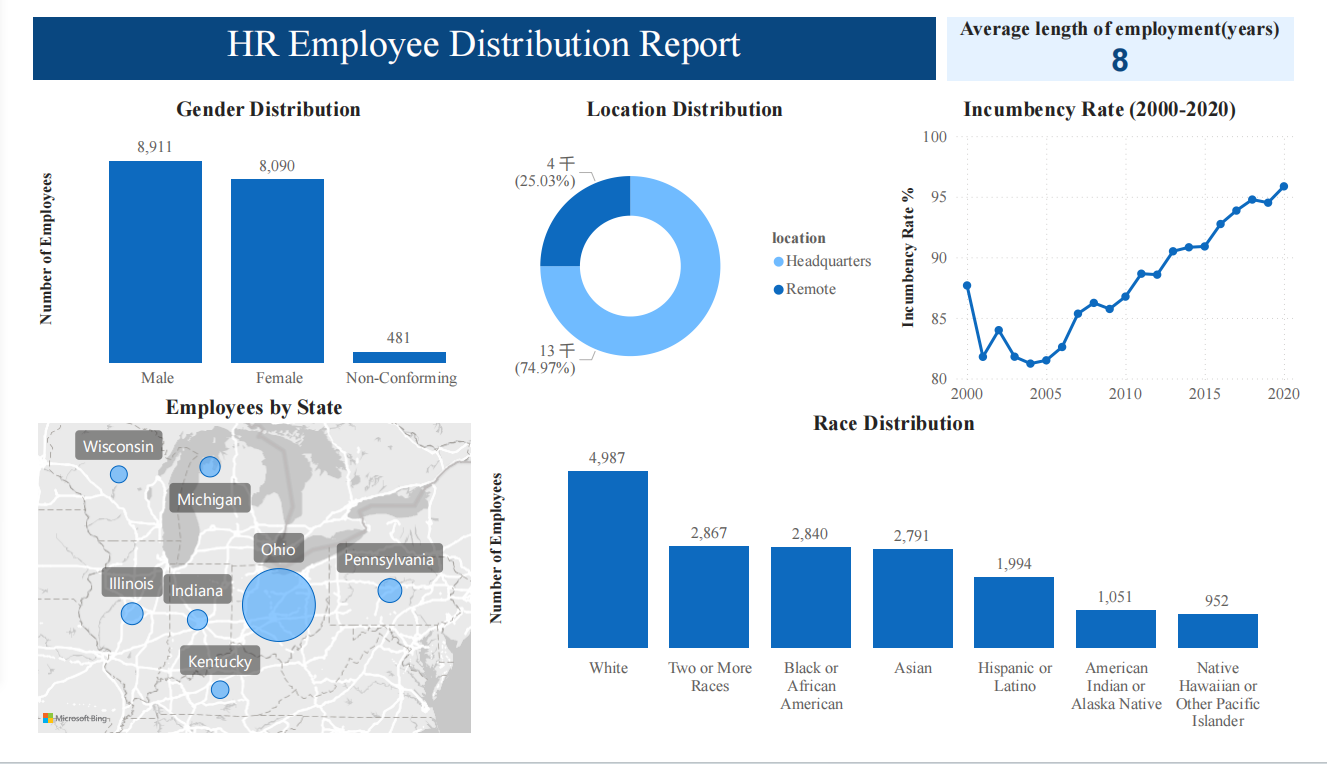

The page's visual inventory and layout, read from the dashboard file:
{"tool":"powerbi","page":{"name":"第 1 页","canvas":[1280,720],"ordinal":0},"visuals":[{"type":"textbox","box":[10,0,900.6,62.2],"z":0},{"type":"card","title":"Average length of employment(years)","fields":{"Values":["Sum(avg_year.avg_year)"]},"box":[923,0,345.8,63.4],"z":1000},{"type":"columnChart","title":"Gender Distribution","fields":{"Category":["gender.gender"],"Y":["Sum(gender.count)"]},"box":[10,79.6,471.5,297.3],"z":2000},{"type":"donutChart","title":"Location Distribution","fields":{"Category":["location.location"],"Y":["Sum(location.count)"]},"box":[460.3,79.6,401.8,313.5],"z":3000},{"type":"map","title":"Employees by State","fields":{"Category":["location_state.location_state"],"Size":["Sum(location_state.count)"]},"box":[10,376.9,441.6,343.3],"z":4000},{"type":"clusteredColumnChart","title":"Race Distribution","fields":{"Category":["race.race"],"Y":["Sum(race.count)"]},"box":[460.3,393.1,819.8,327.2],"z":5000},{"type":"lineChart","title":"Incumbency Rate (2000-2020)","fields":{"Category":["employee_change.year"],"Y":["Sum(employee_change.net_change_percent)"]},"box":[870.8,79.6,409.3,313.5],"z":6000}]}

Visuals, with their boxes in screenshot pixels (x1, y1, x2, y2), scaled from the page's 1280x720 canvas onto the 1327x764 screenshot:
textbox: bbox=[10, 0, 944, 66]
"Average length of employment(years)" card: bbox=[957, 0, 1315, 67]
"Gender Distribution" columnChart: bbox=[10, 84, 499, 400]
"Location Distribution" donutChart: bbox=[477, 84, 894, 417]
"Employees by State" map: bbox=[10, 400, 468, 763]
"Race Distribution" clusteredColumnChart: bbox=[477, 417, 1326, 763]
"Incumbency Rate (2000-2020)" lineChart: bbox=[903, 84, 1326, 417]
